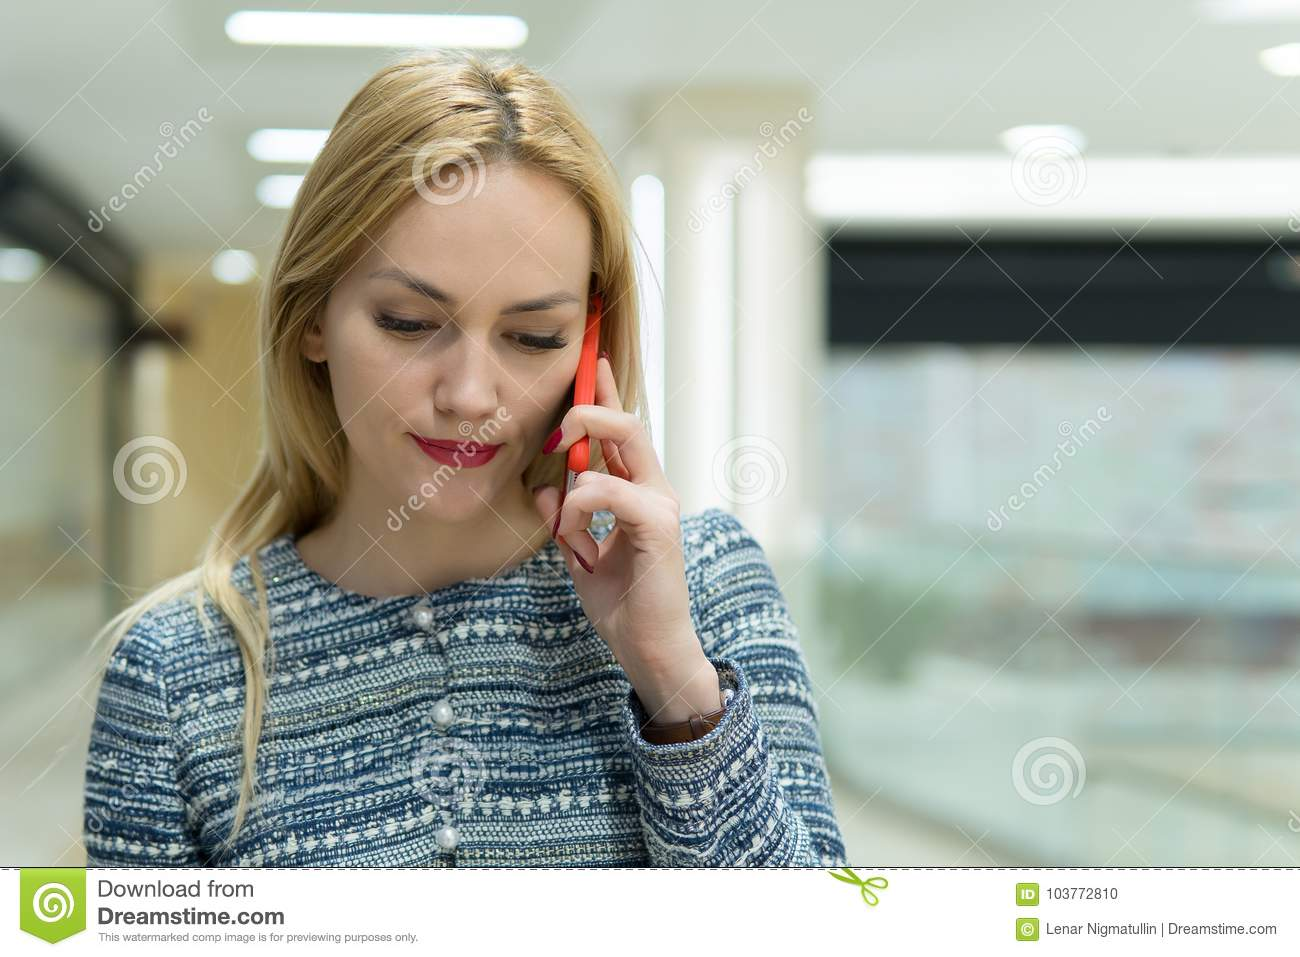phone: (557, 276, 607, 559)
talk: (351, 256, 705, 702)
